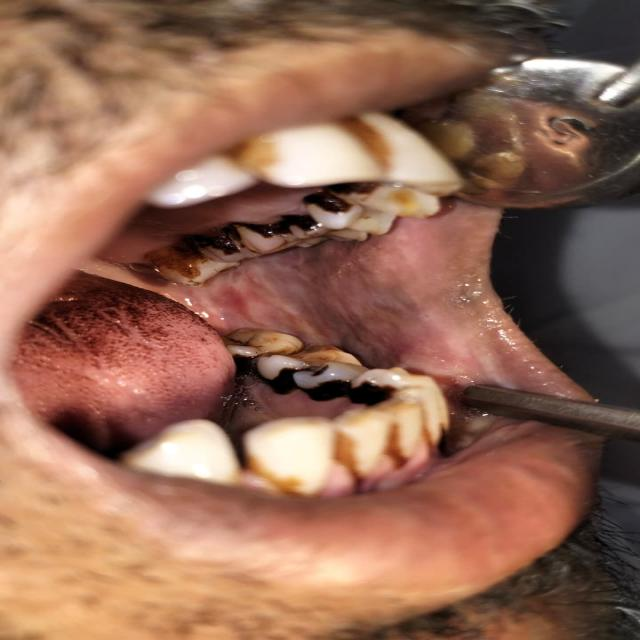leukoplakia-like-detection: (183, 256, 502, 387)
processing_area: (180, 218, 563, 398), (11, 262, 232, 437)
